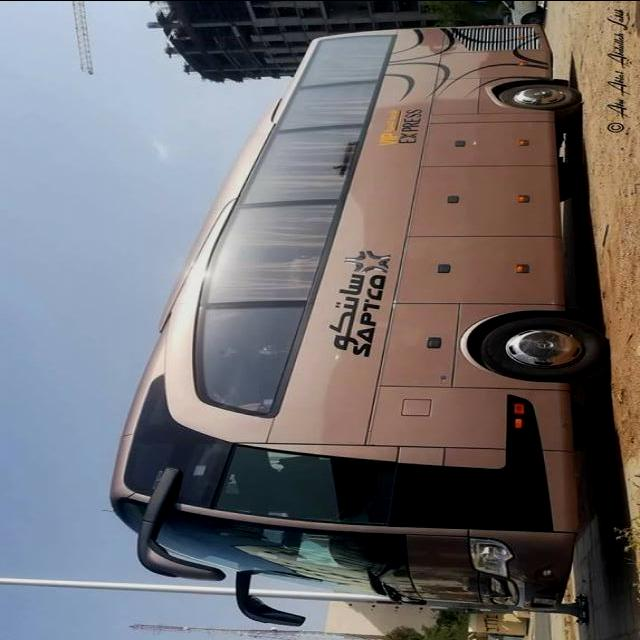bus: (108, 23, 617, 628)
